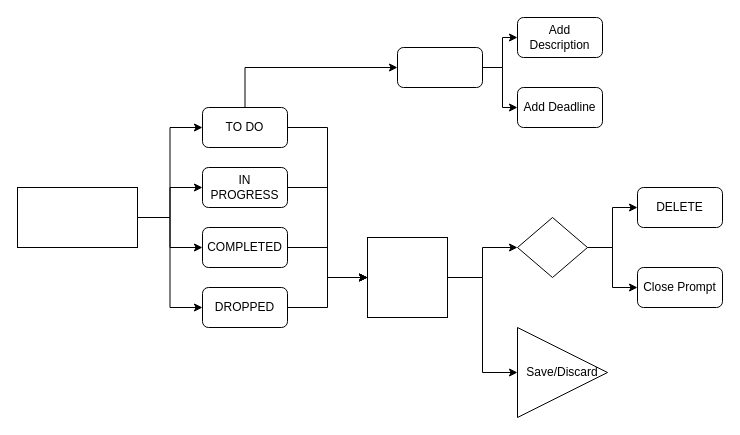
This 740x435 diagram has some shape labels left out. The centre of each missing label's shape, as x and y in pixels:
"CREATE" goes at point (439, 67).
"Home Page" goes at point (77, 217).
"UPDATE DELETE LIST" goes at point (407, 277).
"YES/NO" goes at point (552, 247).
